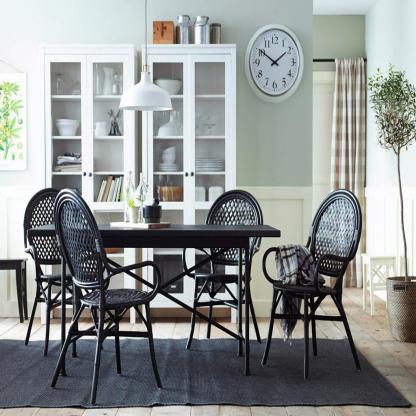Chair: (50, 188, 165, 406), (259, 185, 362, 380)
